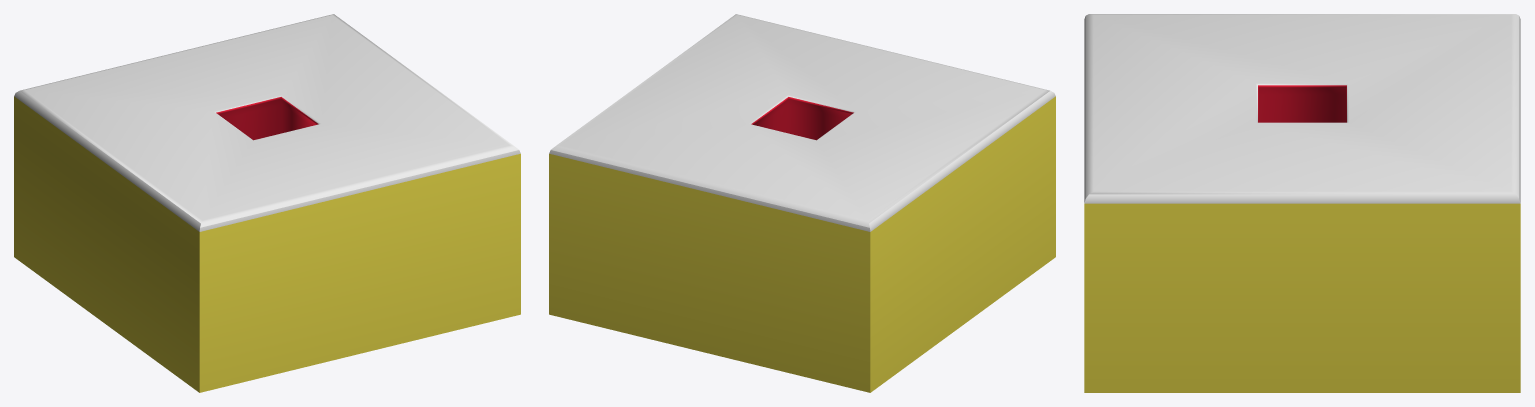
File: CentreLand.fbx
3 renders of one model, left to right at view 1: azimuth 30°, elevation 25°; view 2: azimuth 150°, elevation 25°; view 3: azimuth 270°, elevation 25°, orthographic. The views are drawn at different scales.
Parts seen in each view (by area): view 1: Cube; view 2: Cube; view 3: Cube.
Boxes of the visible parts, x1,y1,x2,y2 form: Cube: [14, 14, 520, 392]; Cube: [549, 14, 1055, 392]; Cube: [1084, 14, 1520, 392].
Size of the model in its own units: 4000 by 2000 by 4000.
